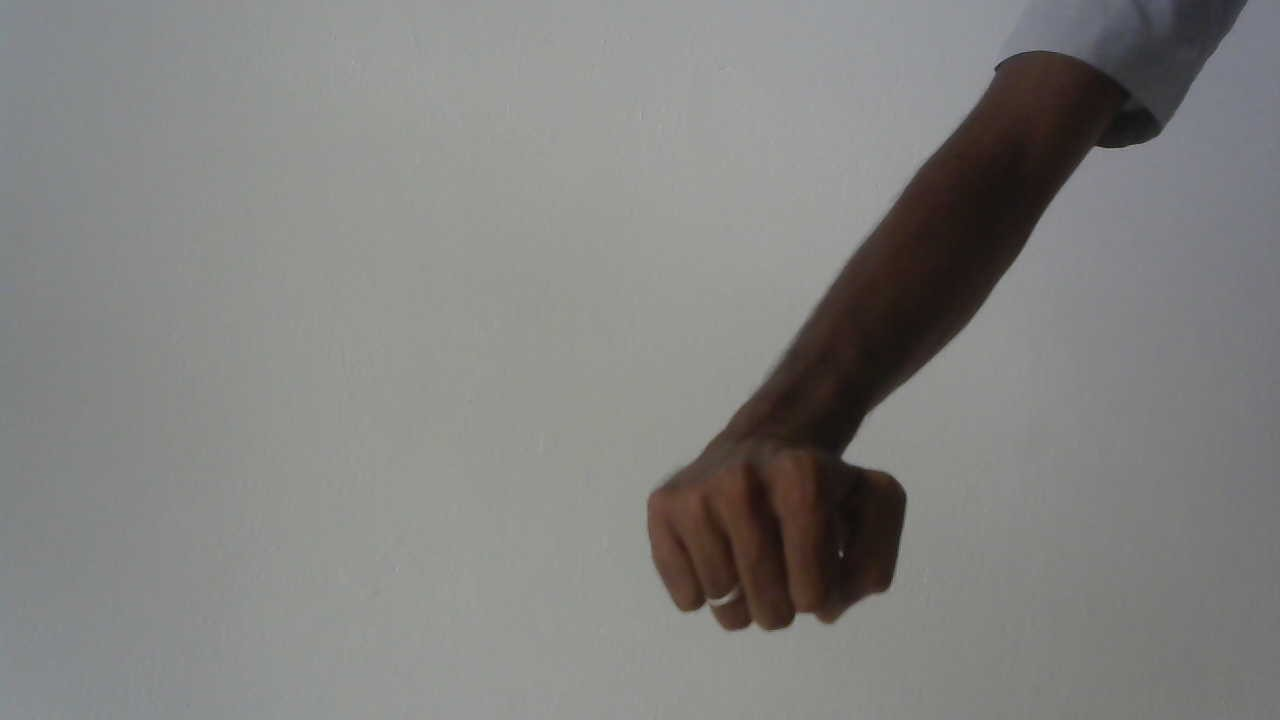yes: (628, 405, 931, 655)
